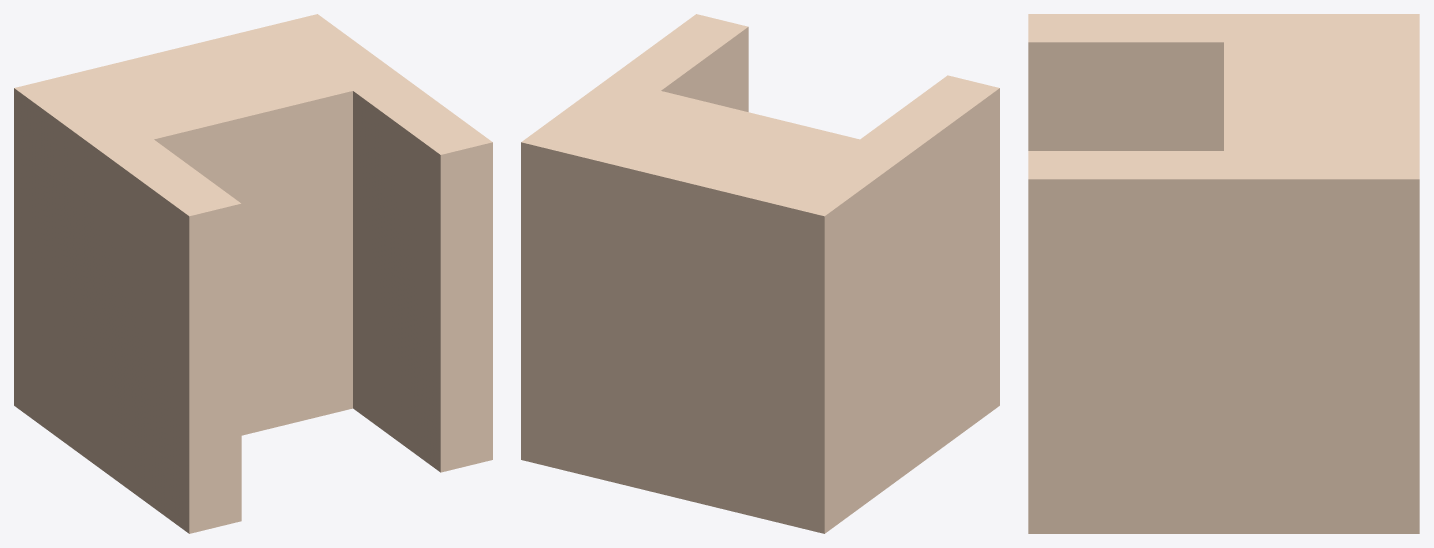
The model's file is Abstract_Castle_Block_Single_OpeningWall_Cream_01.fbx.
3 renders of one model, left to right at view 1: azimuth 30°, elevation 25°; view 2: azimuth 150°, elevation 25°; view 3: azimuth 270°, elevation 25°, orthographic. The views are drawn at different scales.
Parts seen in each view (by area): view 1: Model; view 2: Model; view 3: Model.
Boxes of the visible parts, bbox=[...] form: Model: bbox=[14, 14, 492, 533]; Model: bbox=[521, 14, 999, 533]; Model: bbox=[1028, 14, 1419, 533].
Size of the model in its own units: 1000 by 1000 by 1000.
